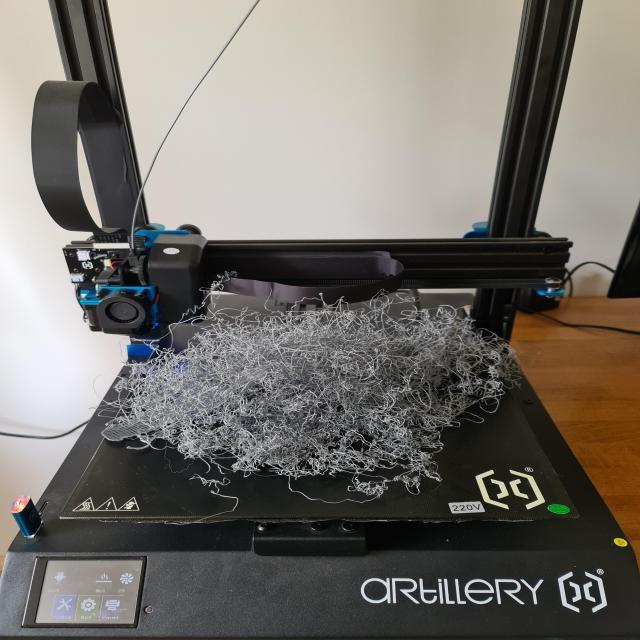Spaghetti: (124, 371, 181, 415), (289, 450, 381, 473)
